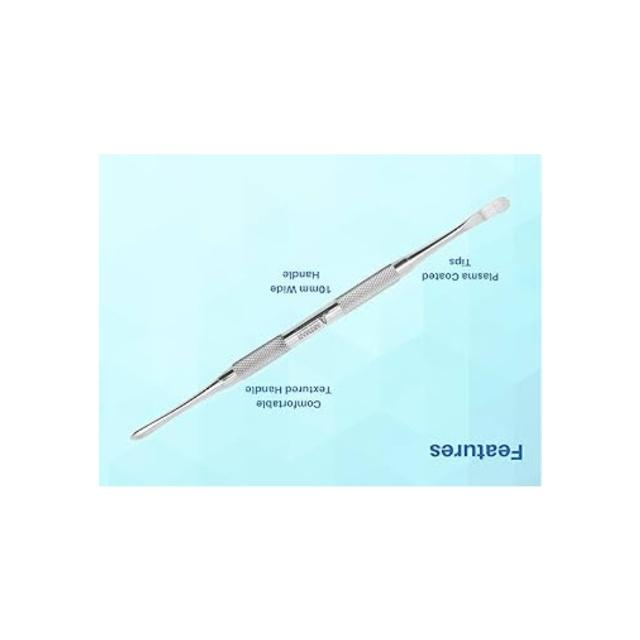elevador: (132, 196, 513, 442)
